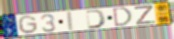3: (41, 13, 57, 33)
D: (85, 8, 107, 30), (113, 6, 134, 29)
G: (18, 15, 39, 35)
I: (67, 10, 75, 32)
Z: (134, 5, 157, 26)
